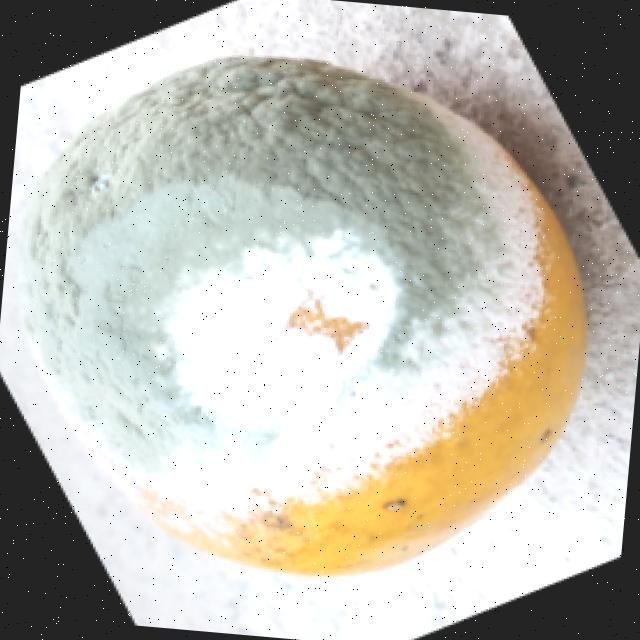Rotten: (0, 35, 609, 596)
